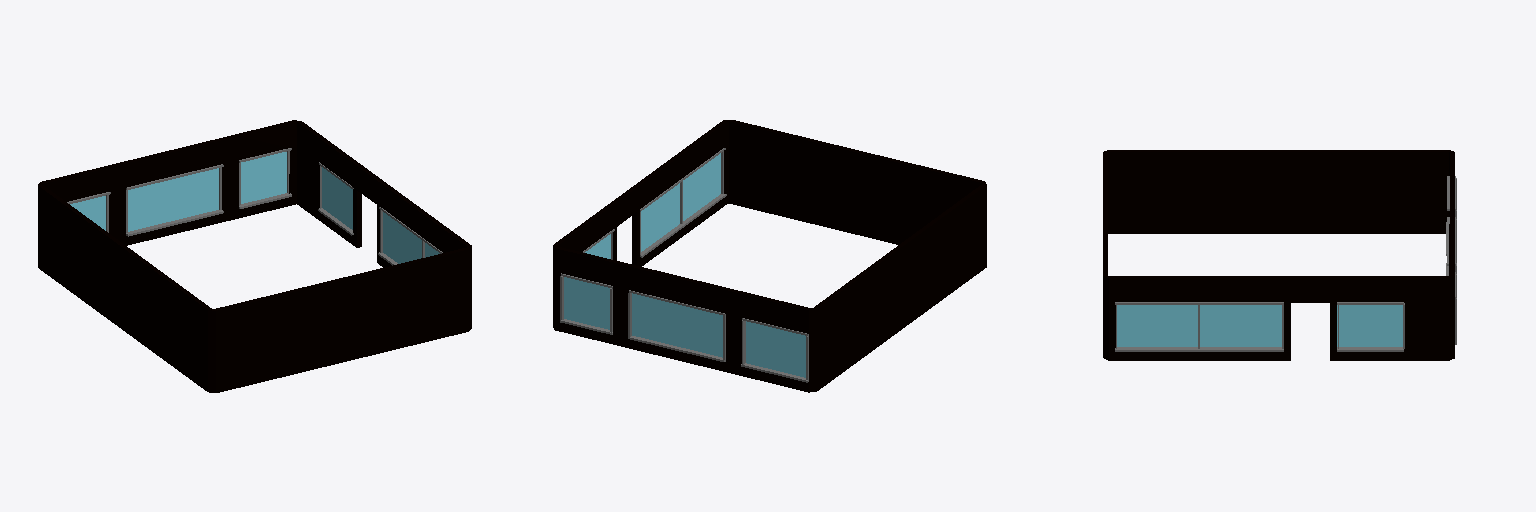
Rendered from BuildingFront_Blockout.obj.
3 renders of one model, left to right at view 1: azimuth 30°, elevation 25°; view 2: azimuth 150°, elevation 25°; view 3: azimuth 270°, elevation 25°, orthographic.
Parts seen in each view (by area): view 1: Shop Building, Shop Glass_Small_Blockout3, Shop Glass_Small_Blockout1, Shop Glass_Large_Blockout, Glass_Small_Blockout Shop, Shop Glass_Small_Blockout2; view 2: Shop Building, Shop Glass_Small_Blockout3, Shop Glass_Large_Blockout, Shop Glass_Small_Blockout2, Shop Glass_Small_Blockout1; view 3: Shop Building, Shop Glass_Large_Blockout, Glass_Small_Blockout Shop, Shop pCube2.
Part boxes in pixels (x1,y1,x2,y2): Shop Building: (38,120,471,392); Shop Glass_Small_Blockout3: (128,168,218,231); Shop Glass_Small_Blockout1: (241,152,286,203); Shop Glass_Large_Blockout: (383,212,439,263); Glass_Small_Blockout Shop: (322,167,352,229); Shop Glass_Small_Blockout2: (70,196,105,230); Shop Building: (553,120,986,392); Shop Glass_Small_Blockout3: (632,293,722,357); Shop Glass_Large_Blockout: (641,153,720,251); Shop Glass_Small_Blockout2: (746,321,805,377); Shop Glass_Small_Blockout1: (564,277,609,329); Shop Building: (1103,150,1454,360); Shop Glass_Large_Blockout: (1117,305,1281,346); Glass_Small_Blockout Shop: (1337,305,1402,346); Shop pCube2: (1115,347,1283,351).
Bounding box in the file's own units: 1814 × 535 × 2085.